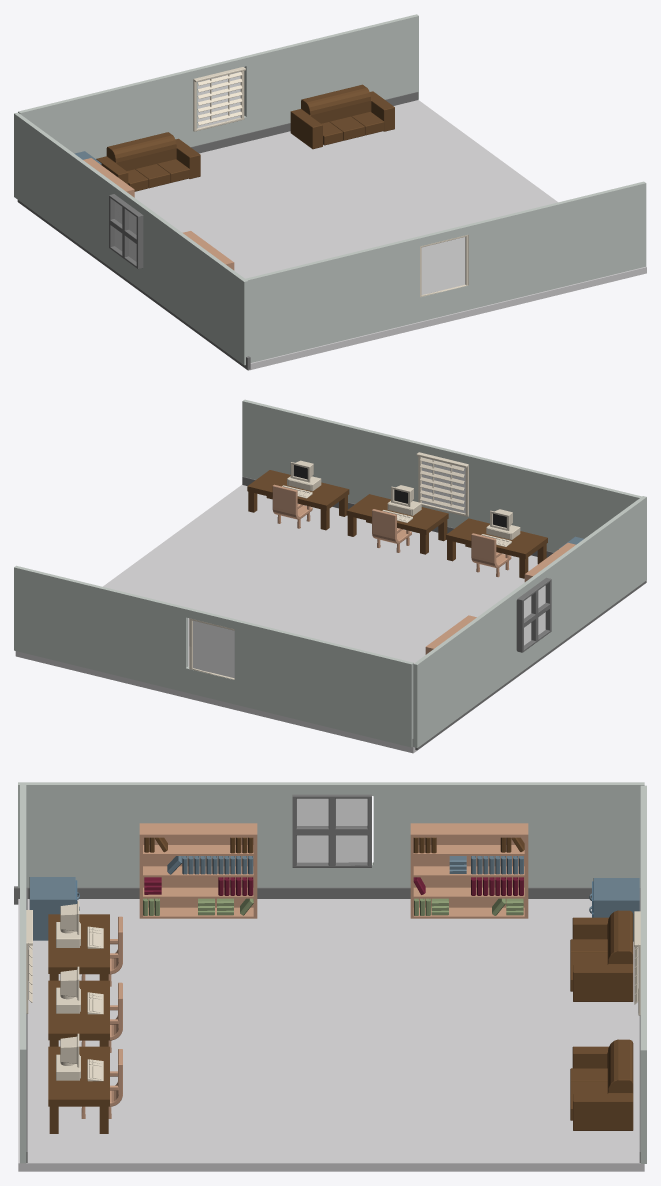
Rendered from updatedLV1.glb.
The picture shows the model from 3 angles, top to bottom: view 1: azimuth 30°, elevation 25°; view 2: azimuth 150°, elevation 25°; view 3: azimuth 270°, elevation 25°; orthographic projection. The views are drawn at different scales.
Parts seen in each view (by area): view 1: Cube.004, Cube.003, Cube.009, Cube.005, Couch.001, Couch, Window Cross.004, Window Cross.003, Window Cross.005, Wall Skirting.002, Wall Skirting.001; view 2: Cube.004, Cube.009, Cube.003, Cube.005, Window Cross.003, Window Cross.004, Table, Table.001, Window Cross.005, Table.002, Chair1.002, Chair1 (+5 smaller); view 3: Cube.004, Cube.005, Shelf, Shelf.002, Window Cross.005, Couch, Couch.001, Wall Skirting.001, Table, Table.001, Table.002, Cube.003 (+11 smaller).
Part boxes in pixels (x1,y1,x2,y2): Cube.004: (134, 100, 646, 370); Cube.003: (245, 181, 646, 362); Cube.009: (18, 14, 418, 158); Cube.005: (14, 112, 248, 365); Couch.001: (290, 84, 394, 149); Couch: (96, 132, 200, 191); Window Cross.004: (193, 67, 245, 131); Window Cross.003: (420, 234, 468, 297); Window Cross.005: (109, 194, 143, 269); Wall Skirting.002: (191, 92, 418, 153); Wall Skirting.001: (17, 200, 250, 369); Cube.004: (15, 485, 537, 753); Cube.009: (14, 565, 413, 747); Cube.003: (242, 399, 641, 552); Cube.005: (413, 496, 646, 747); Window Cross.003: (416, 452, 468, 516); Window Cross.004: (189, 618, 234, 679); Table: (247, 470, 349, 530); Table.001: (346, 494, 448, 554); Window Cross.005: (516, 577, 551, 652); Table.002: (446, 518, 547, 578); Chair1.002: (471, 533, 511, 577); Chair1: (272, 484, 312, 528); Cube.004: (18, 899, 644, 1171); Cube.005: (18, 782, 644, 887); Shelf: (139, 823, 257, 918); Shelf.002: (410, 823, 528, 918); Window Cross.005: (292, 794, 371, 867); Couch: (570, 910, 633, 1001); Couch.001: (570, 1039, 633, 1130); Wall Skirting.001: (14, 886, 591, 904); Table: (48, 1046, 109, 1133); Table.001: (48, 980, 109, 1046); Table.002: (48, 914, 109, 980); Cube.003: (20, 785, 26, 1163).
Size of the model in its own units: 41.03 by 8.6 by 40.42.
